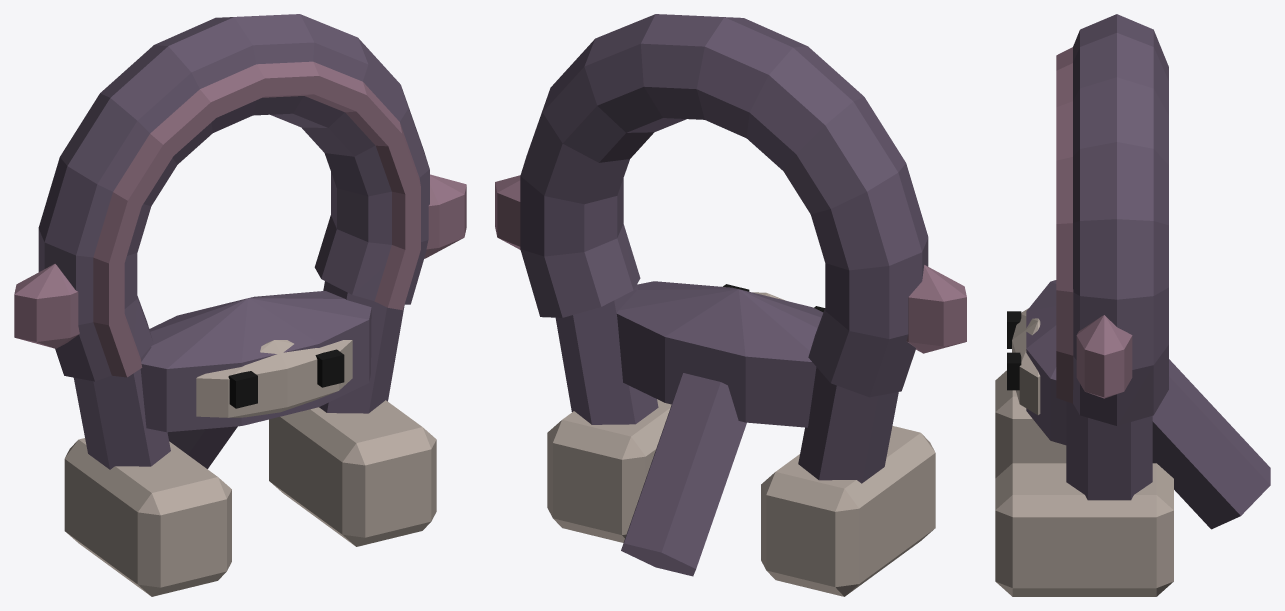
The model's file is ringmur.glb.
3 renders of one model, left to right at view 1: azimuth 30°, elevation 25°; view 2: azimuth 150°, elevation 25°; view 3: azimuth 270°, elevation 25°, orthographic. The views are drawn at different scales.
Visible parts, largest first — view 1: Ringmur; view 2: Ringmur; view 3: Ringmur.
Boxes of the visible parts, x1,y1,x2,y2 form: Ringmur: (14,14,466,596); Ringmur: (495,14,966,596); Ringmur: (995,14,1270,596).
Bounding box in the file's own units: 0.82 × 0.88 × 0.44.
